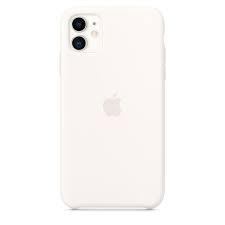Smartphone: (64, 12, 159, 208)
